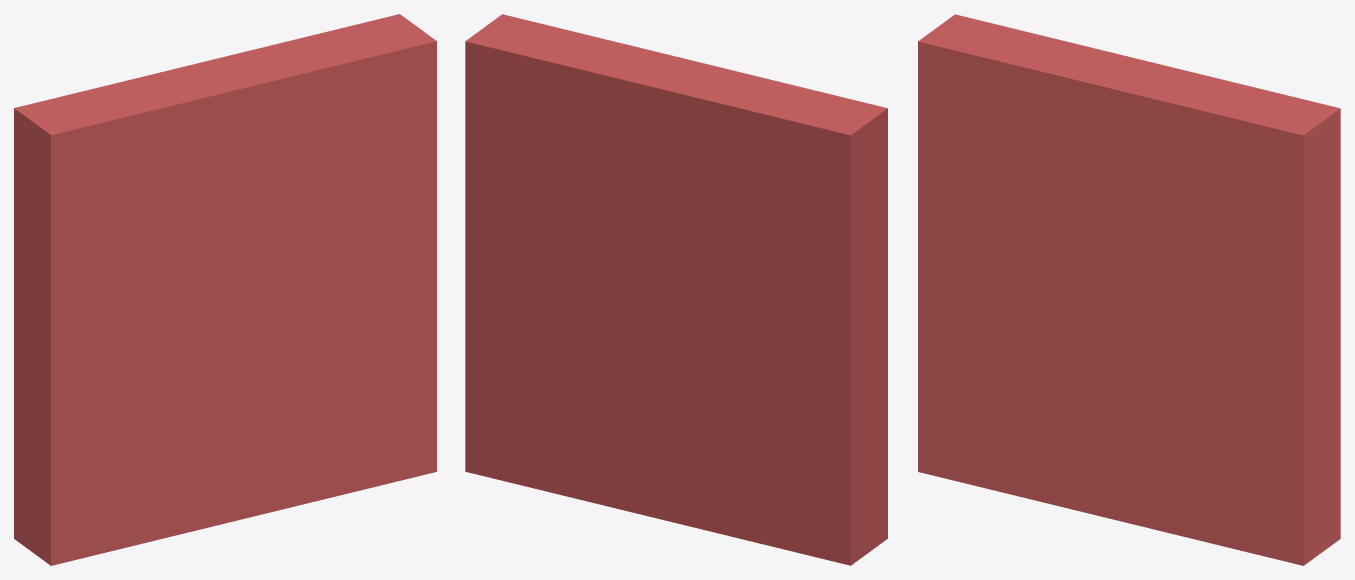
File: yajirusi_l.glb
3 renders of one model, left to right at view 1: azimuth 30°, elevation 25°; view 2: azimuth 150°, elevation 25°; view 3: azimuth 330°, elevation 25°, orthographic.
Parts seen in each view (by area): view 1: yajirusi_l_col; view 2: yajirusi_l_col; view 3: yajirusi_l_col.
Boxes of the visible parts, x1=… form: yajirusi_l_col: x1=14, y1=14, x2=436, y2=565; yajirusi_l_col: x1=465, y1=14, x2=887, y2=565; yajirusi_l_col: x1=918, y1=14, x2=1340, y2=565.
Bounding box in the file's own units: 3.01 × 3.2 × 0.5.
